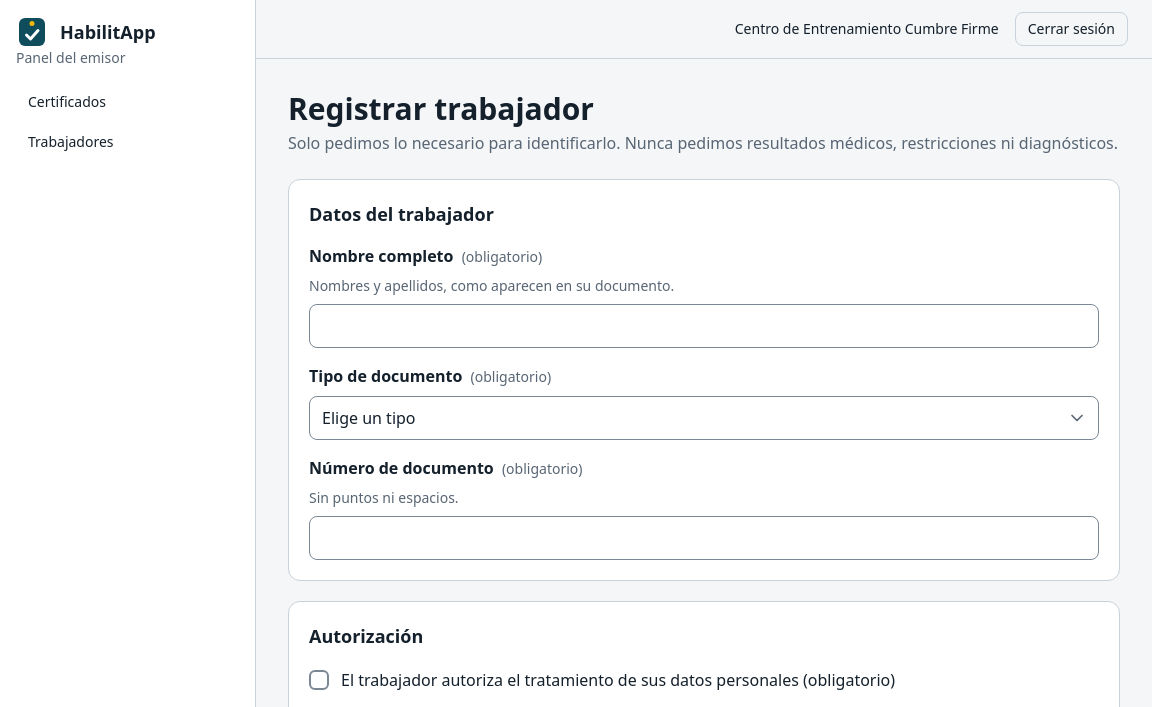
Scenario: RegisterWorkerPage › warns when the worker is already registered in the entity
Type "Carlos Andrés Ramírez Pineda" into the field labelled "Nombre completo (obligatorio)" at coordinates (704, 326), box [309,304,1099,348]
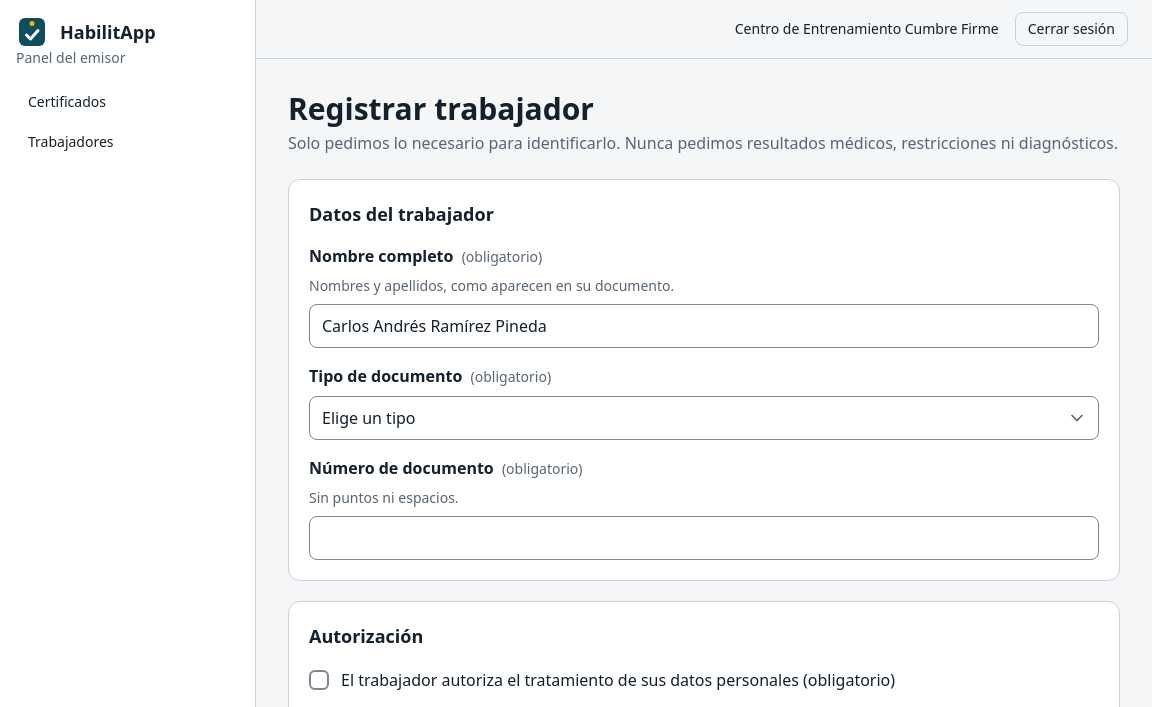
Select "Cédula de ciudadanía" in the dropdown labelled "Tipo de documento (obligatorio)" at coordinates (704, 418), box [309,396,1099,440]
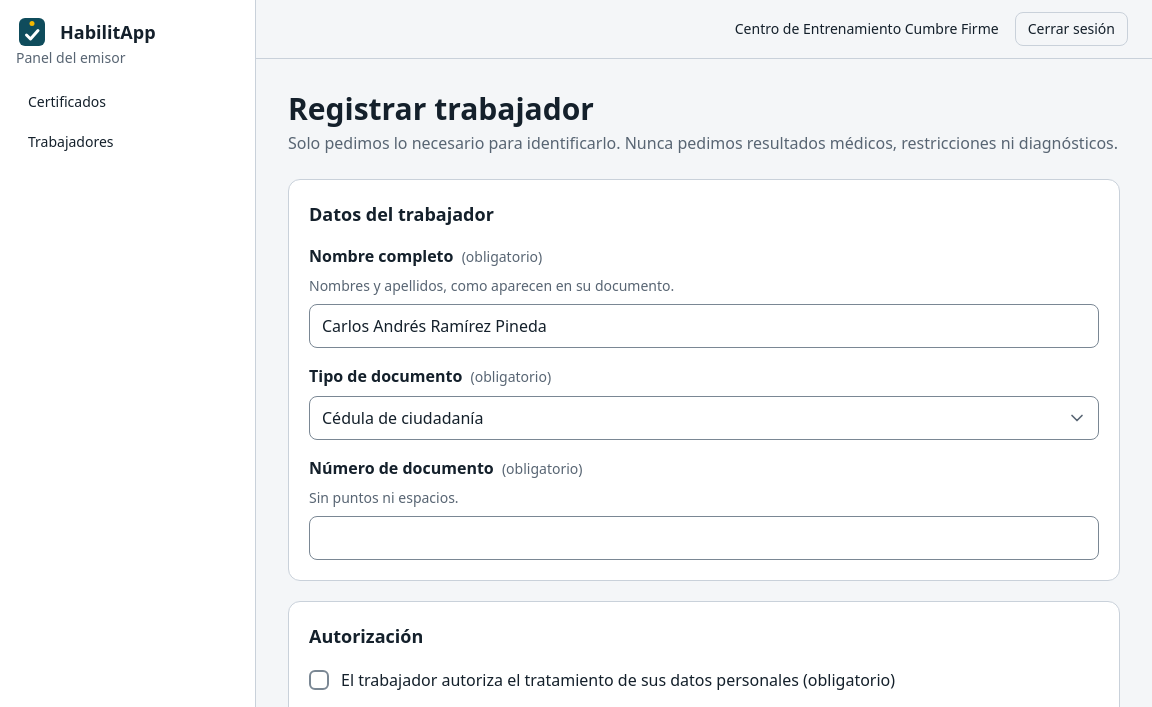
Type "1020345678" into the field labelled "Número de documento (obligatorio)" at coordinates (704, 538), box [309,516,1099,560]
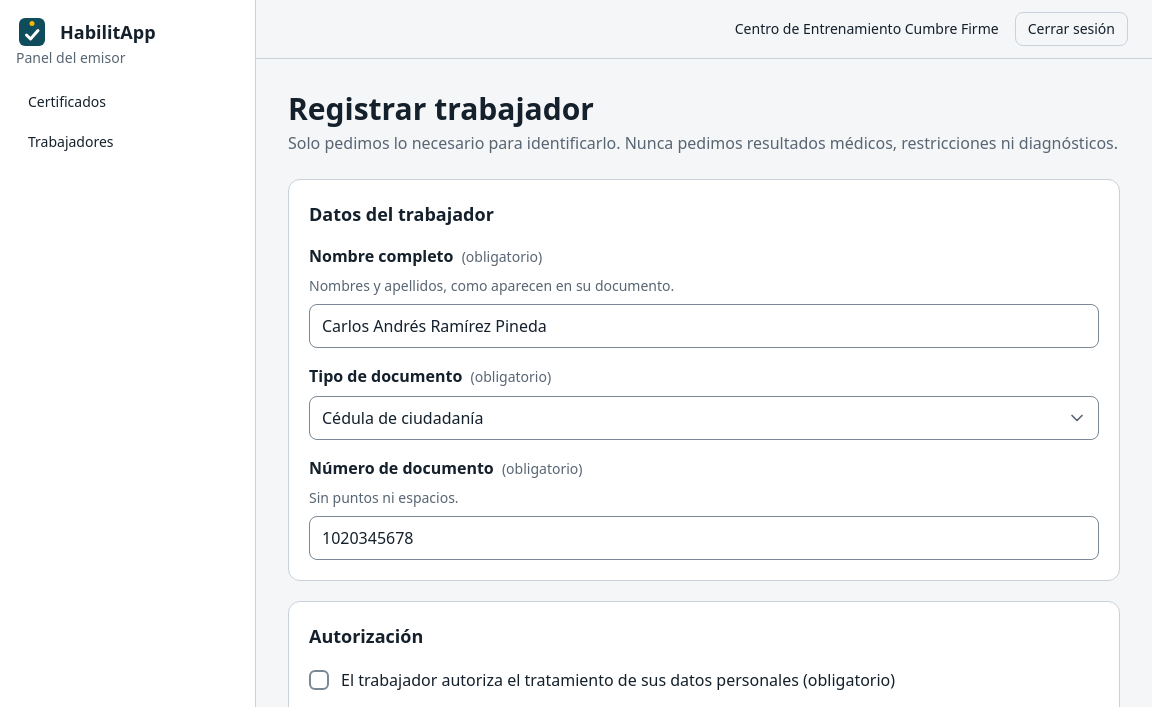
Click the checkbox labelled "autoriza el tratamiento" at coordinates (319, 680), box [309,670,329,690]
(page scrolled)
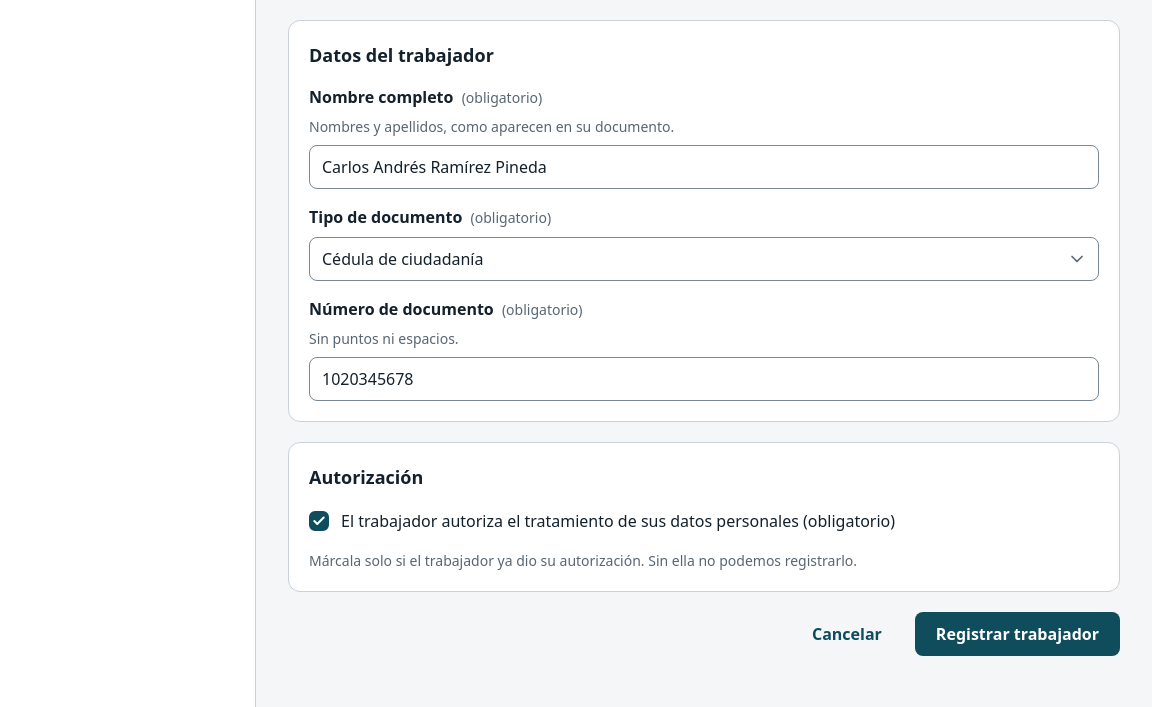
Click the button "Registrar trabajador" at coordinates (1017, 634), box [915,612,1120,656]
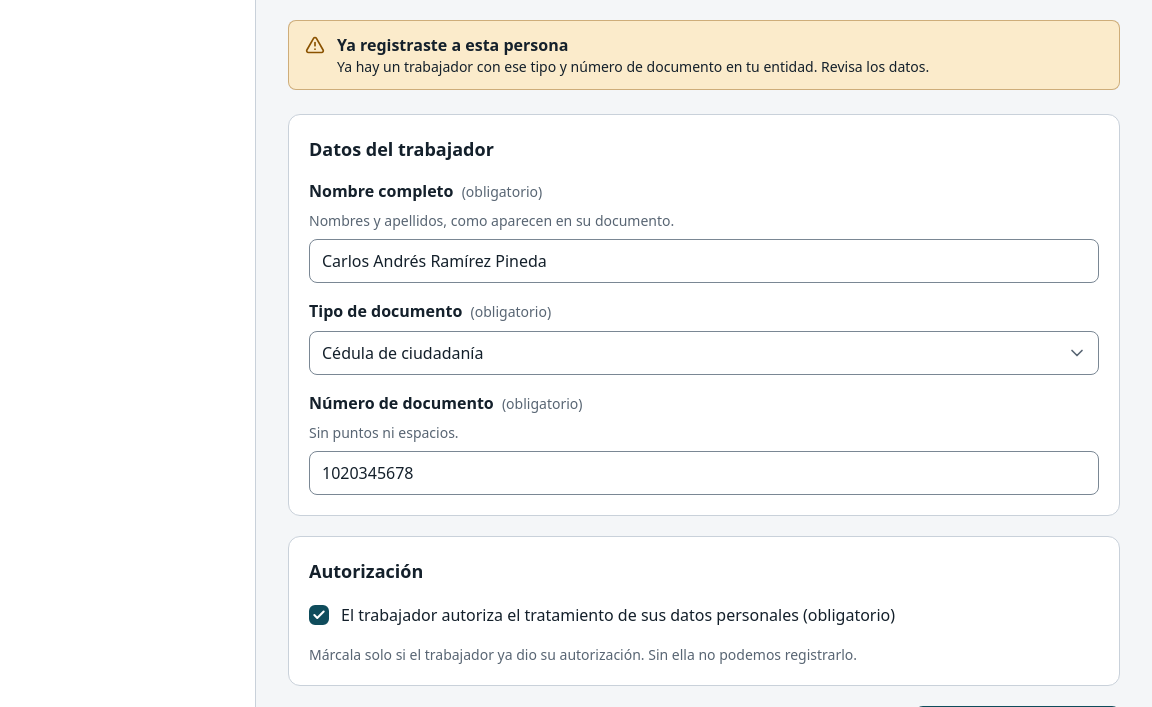
Check: the text "Ya registraste a esta persona" is shown, box [337,34,568,56]
